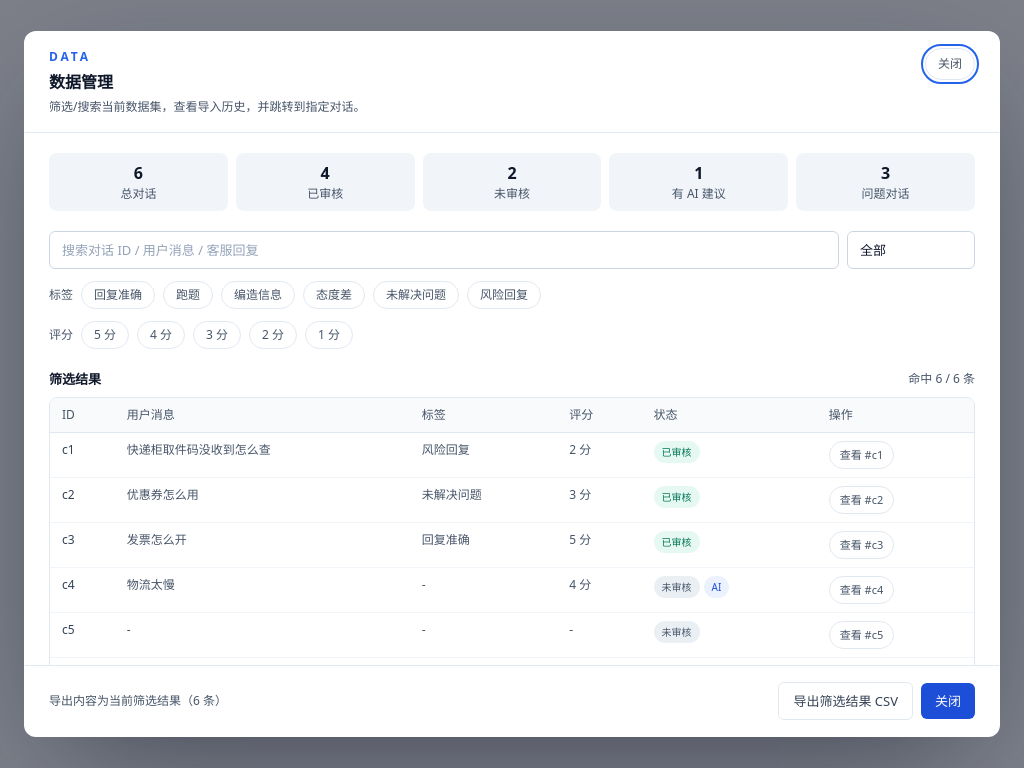
Test: DataManagerPanel 补充 · 关键词搜索与清空筛选 › 输入「快递柜」→ 命中 1 / 6 条；清空筛选按钮出现，点击后恢复全部且按钮消失
Check: the button "清空筛选" is not shown
Type "快递柜" into the search field labelled "搜索对话".
click(444, 250); type("快递柜")  # box [49,231,839,269]
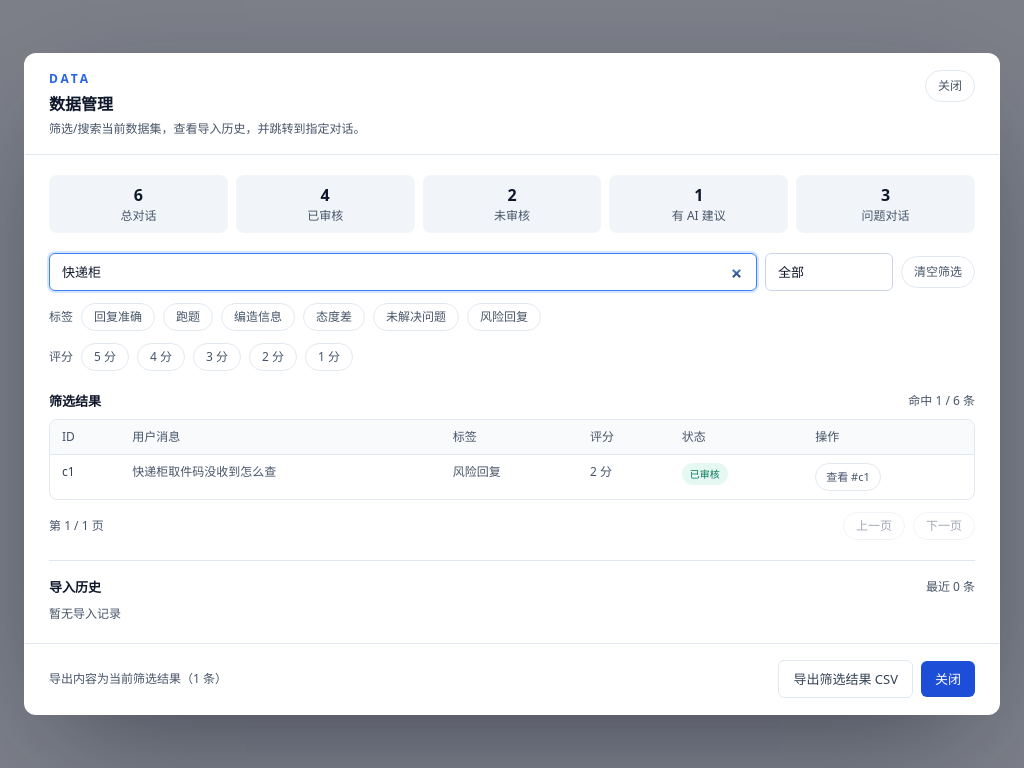
Check: the text "命中 1 / 6 条" is shown, box [908,392,975,410]
Check: the button "清空筛选" is shown
Click the button "清空筛选".
click(938, 272)  # box [901,256,975,288]
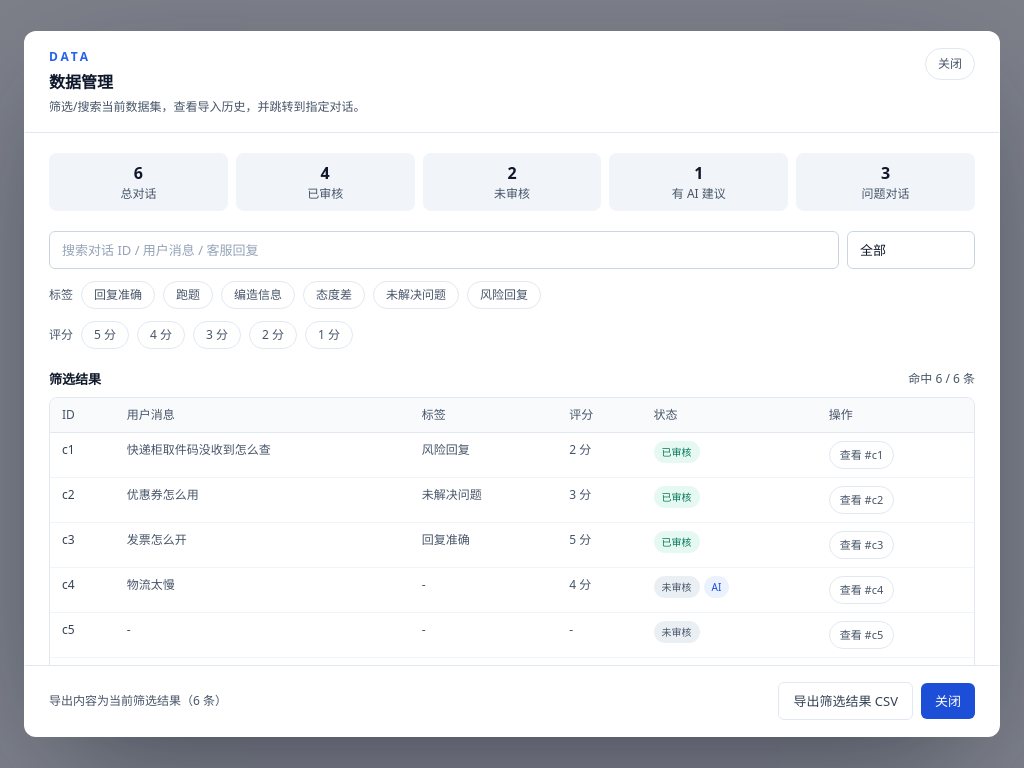
Check: the text "命中 6 / 6 条" is shown, box [908,370,975,388]
Check: the button "清空筛选" is gone
Check: the search field labelled "搜索对话" is empty, box [49,231,839,269]
